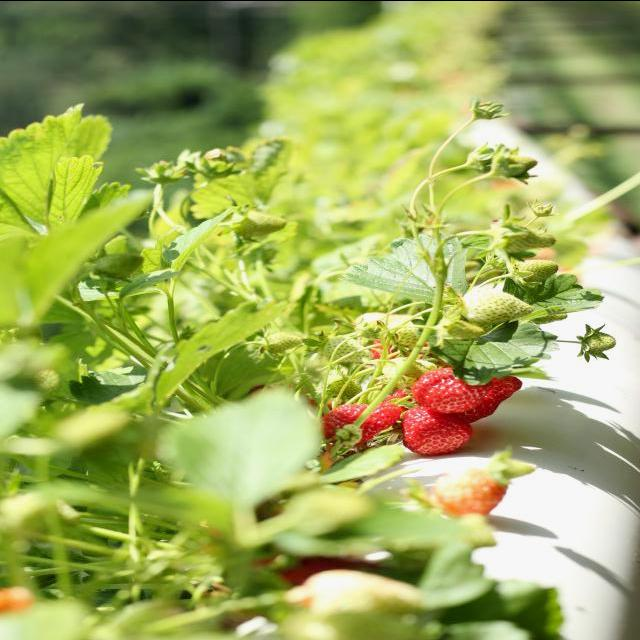ripe: (416, 459, 509, 518), (308, 394, 414, 444), (408, 361, 490, 417), (394, 407, 478, 458)
unripe: (456, 272, 554, 319), (575, 324, 615, 366)
